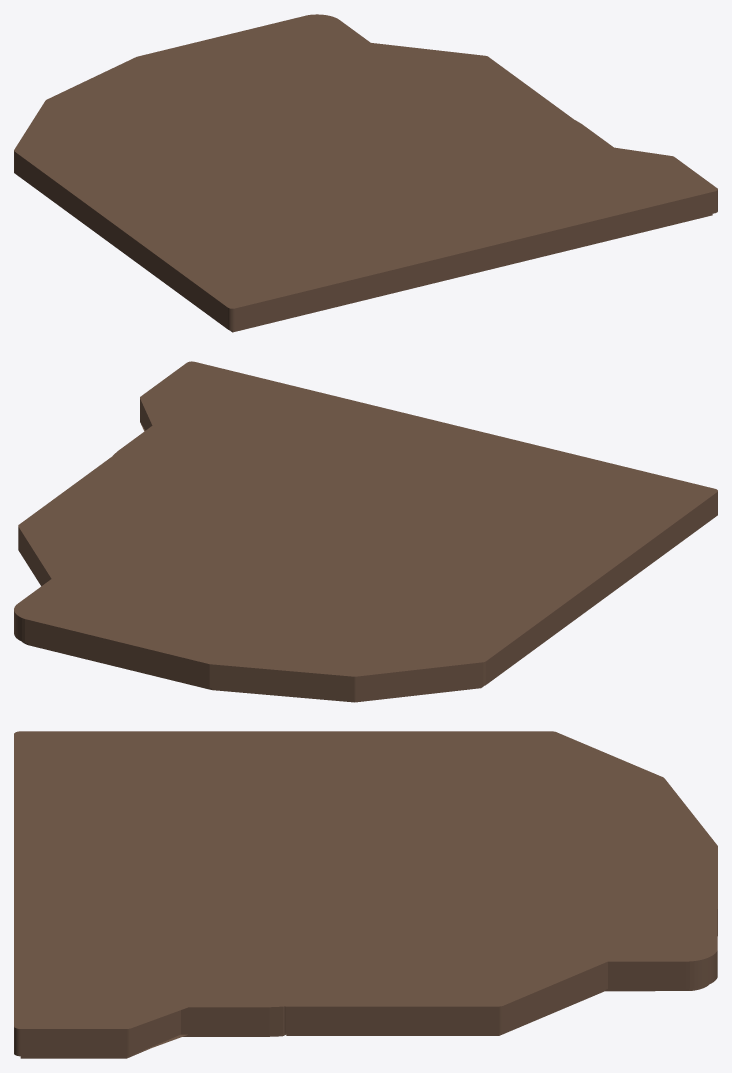
Rendered from office 2.fbx.
The picture shows the model from 3 angles, top to bottom: view 1: azimuth 30°, elevation 25°; view 2: azimuth 150°, elevation 25°; view 3: azimuth 270°, elevation 25°; orthographic projection. The views are drawn at different scales.
Parts seen in each view (by area): view 1: path4607, path4516; view 2: path4607, path4516; view 3: path4607, path4516.
Part boxes in pixels (x1,y1,x2,y2): path4607: (14, 14, 717, 330); path4516: (230, 214, 712, 332); path4607: (14, 361, 717, 700); path4516: (22, 642, 483, 702); path4607: (14, 731, 717, 1056); path4516: (20, 985, 708, 1058).
Size of the model in its own units: 3975 by 202 by 3974.
